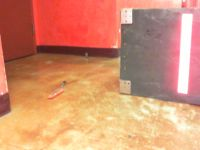switch: (176, 13, 192, 95)
